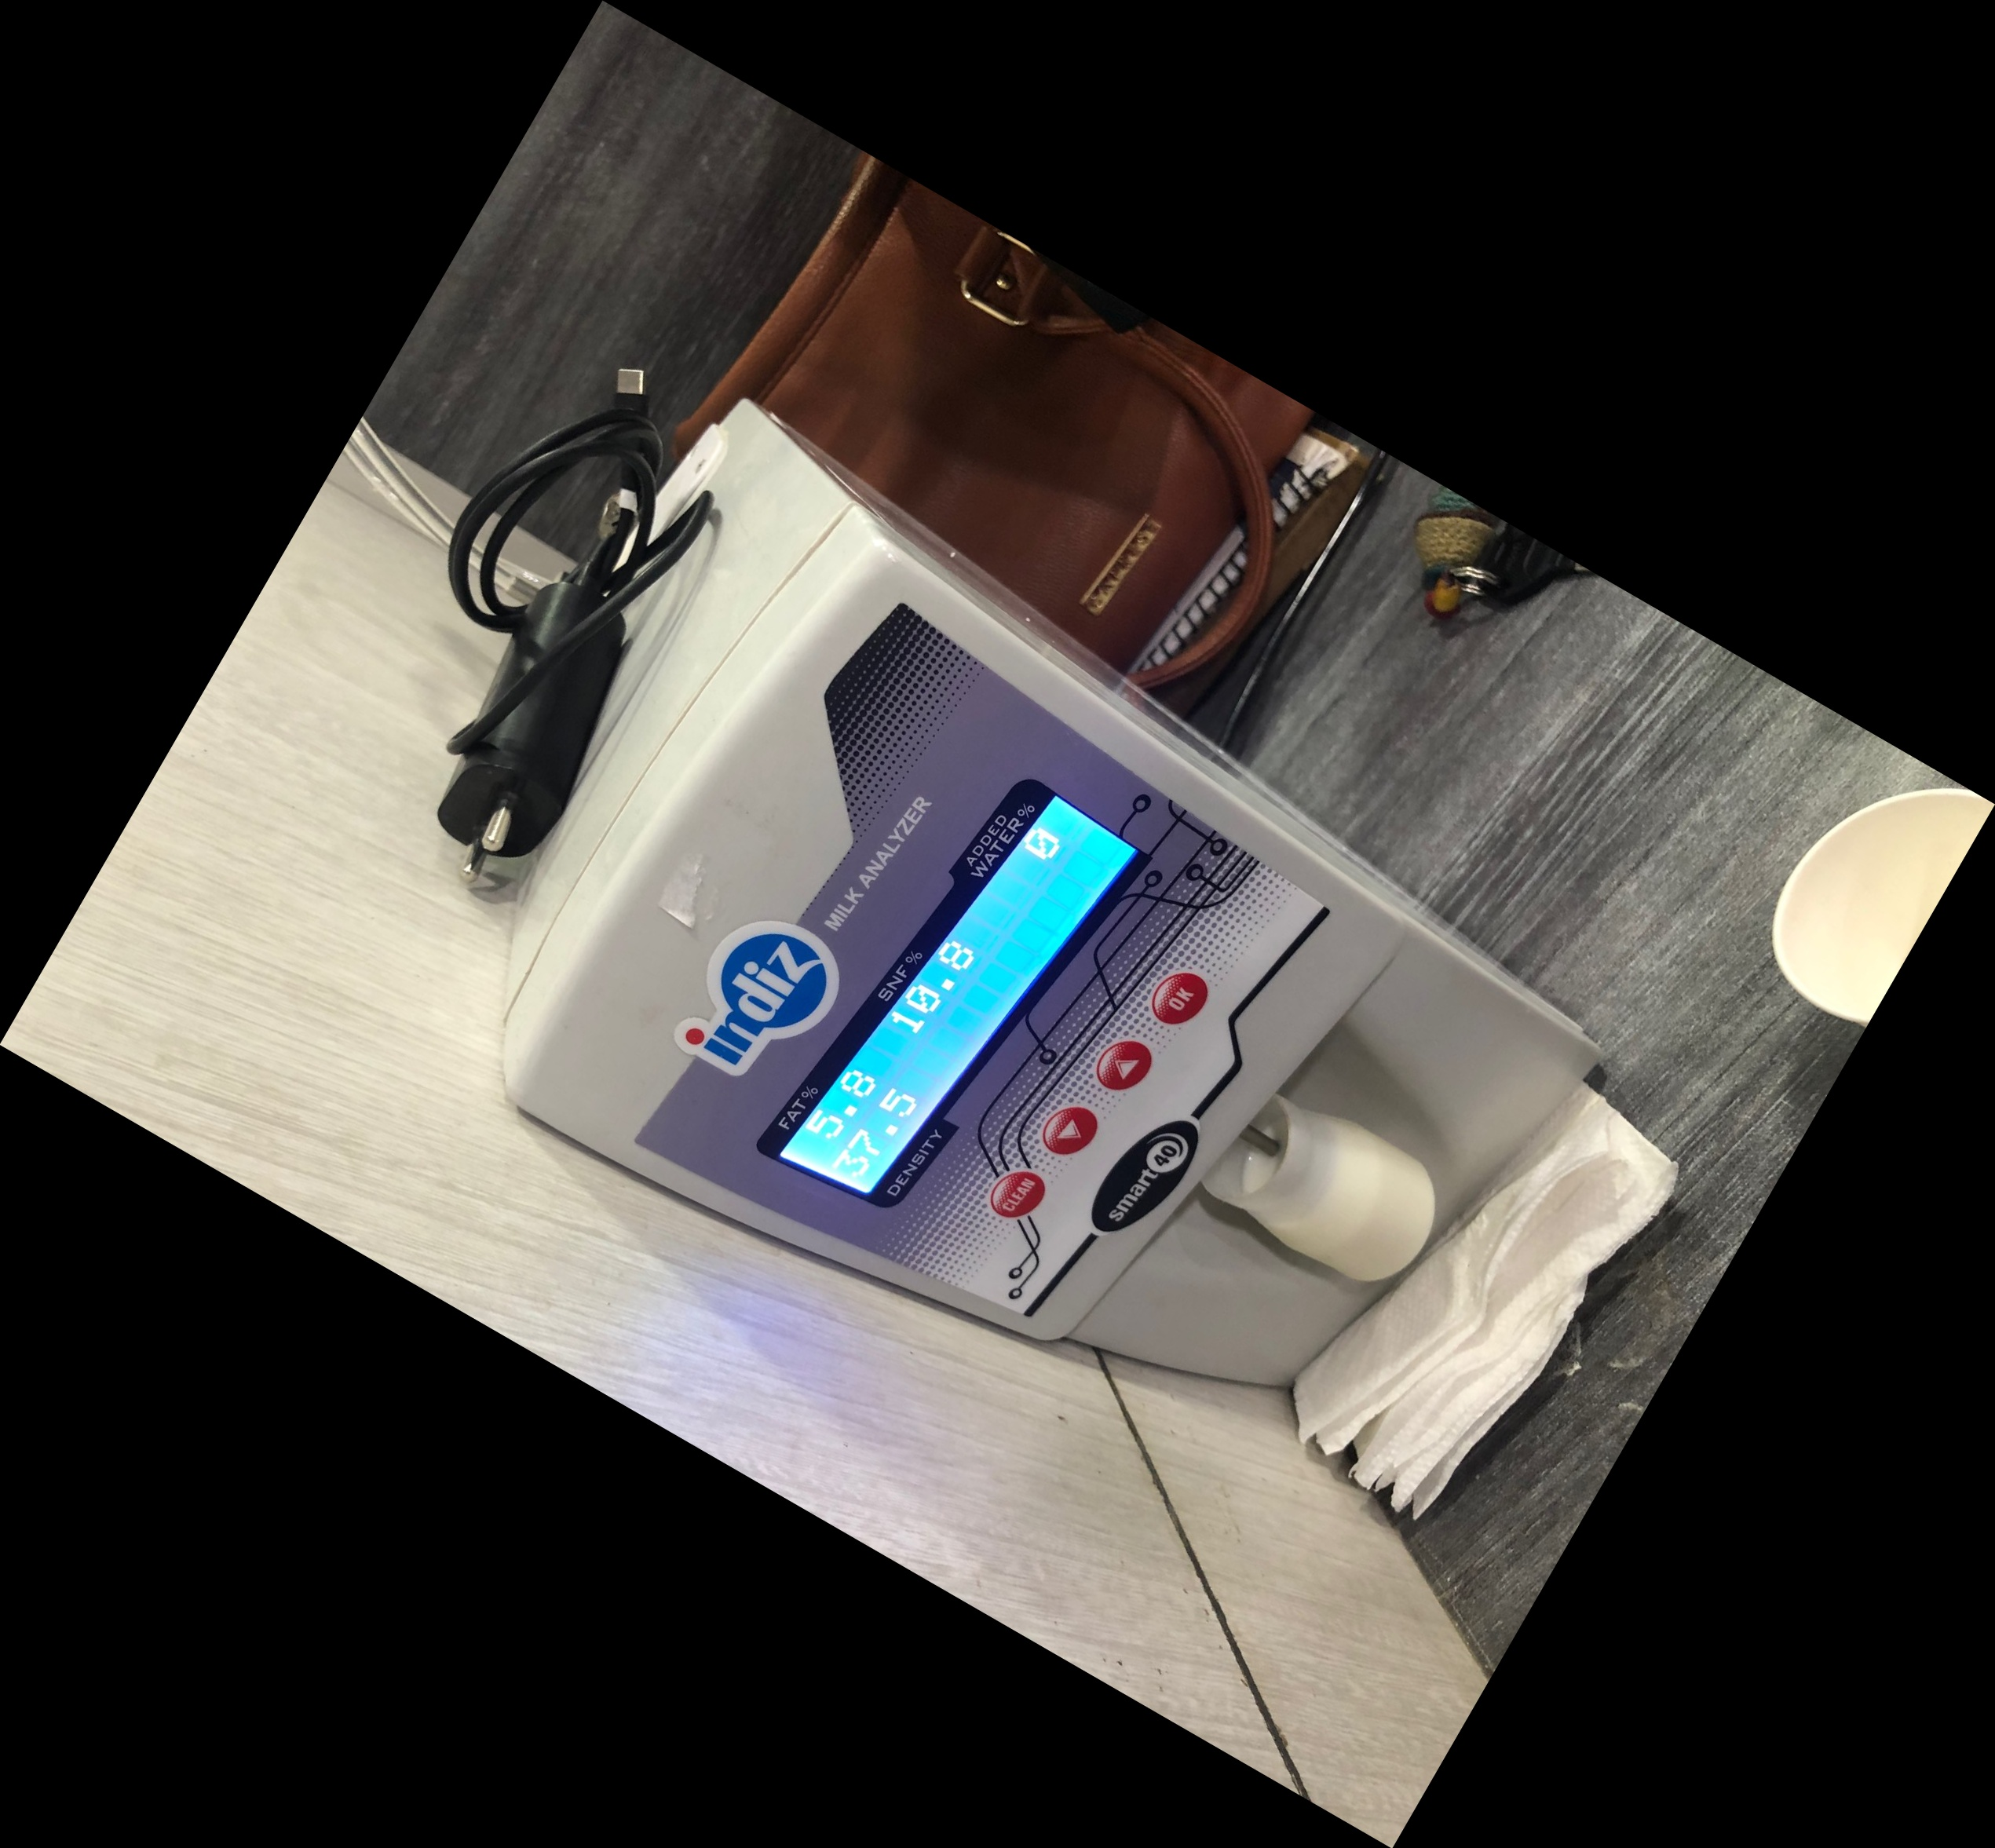lcd: (712, 742, 1175, 1218)
